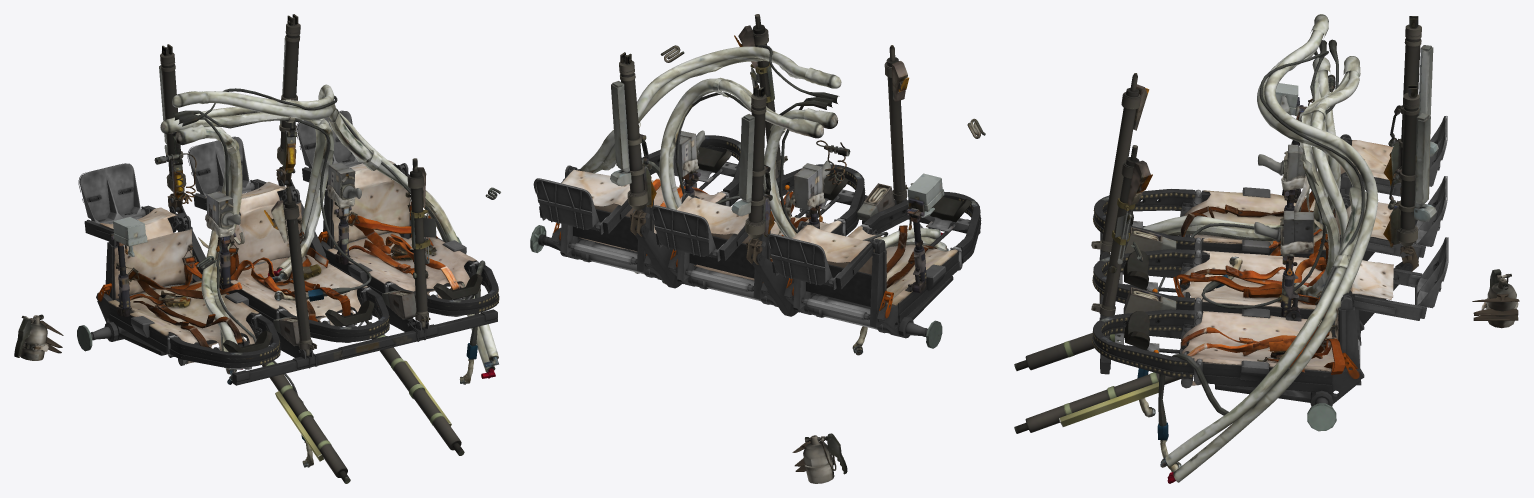
Rendered from x3d-cm-interior-seats-uvs-150k-4096-high.glb.
3 renders of one model, left to right at view 1: azimuth 30°, elevation 25°; view 2: azimuth 150°, elevation 25°; view 3: azimuth 270°, elevation 25°, orthographic. The views are drawn at different scales.
Bounding box in the file's own units: 214 × 187 × 222.
1 material, 1 textured.
